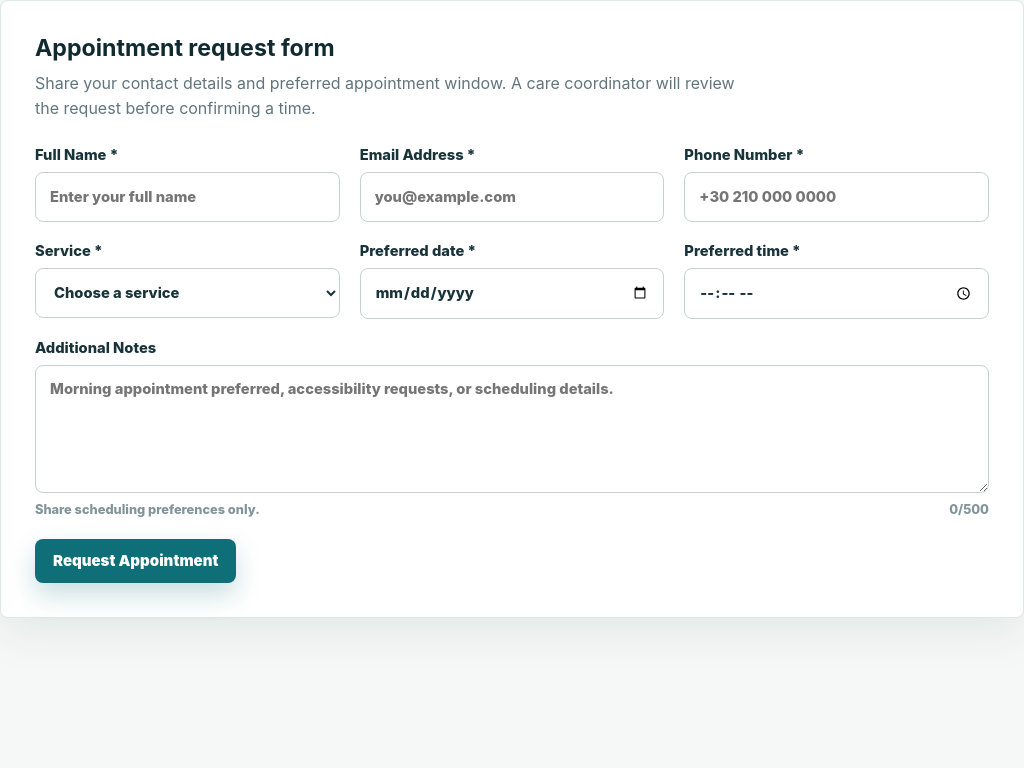
Test: BookingForm › invalid email format shows a validation message
This screenshot has width=1024, height=768.
Type "Mina Carter" into the field labelled "Full Name *" at point(187, 197), box [35, 172, 340, 222]
Type "not-an-email" into the field labelled "Email Address *" at point(512, 197), box [360, 172, 664, 222]
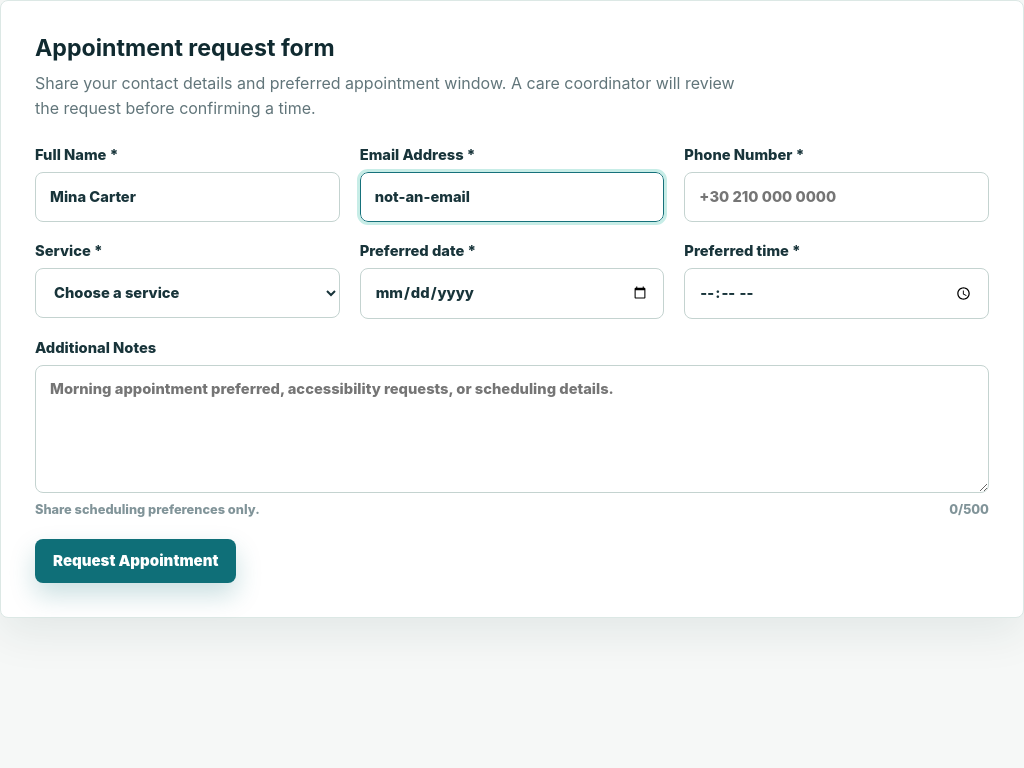
Type "555-0199" into the field labelled "Phone Number *" at point(837, 197), box [684, 172, 989, 222]
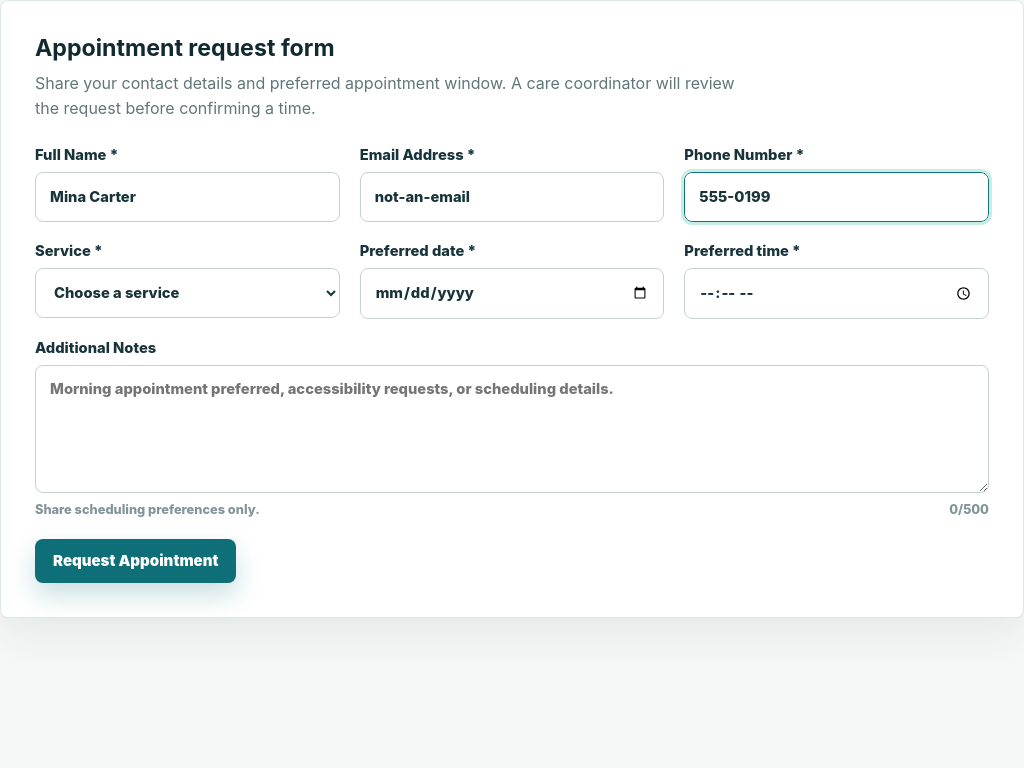
Select "Hearing test" in the dropdown labelled "Service *" at point(187, 293), box [35, 268, 340, 318]
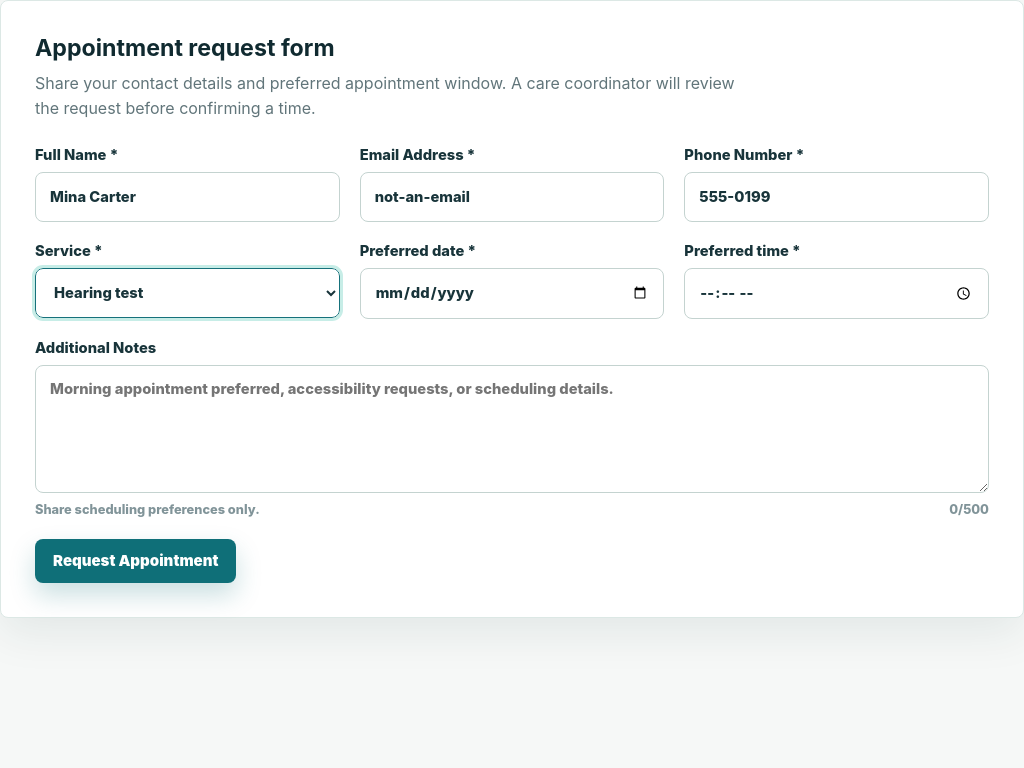
Type "2026-06-15" into the date field labelled "Preferred date *" at point(512, 293), box [360, 268, 664, 319]
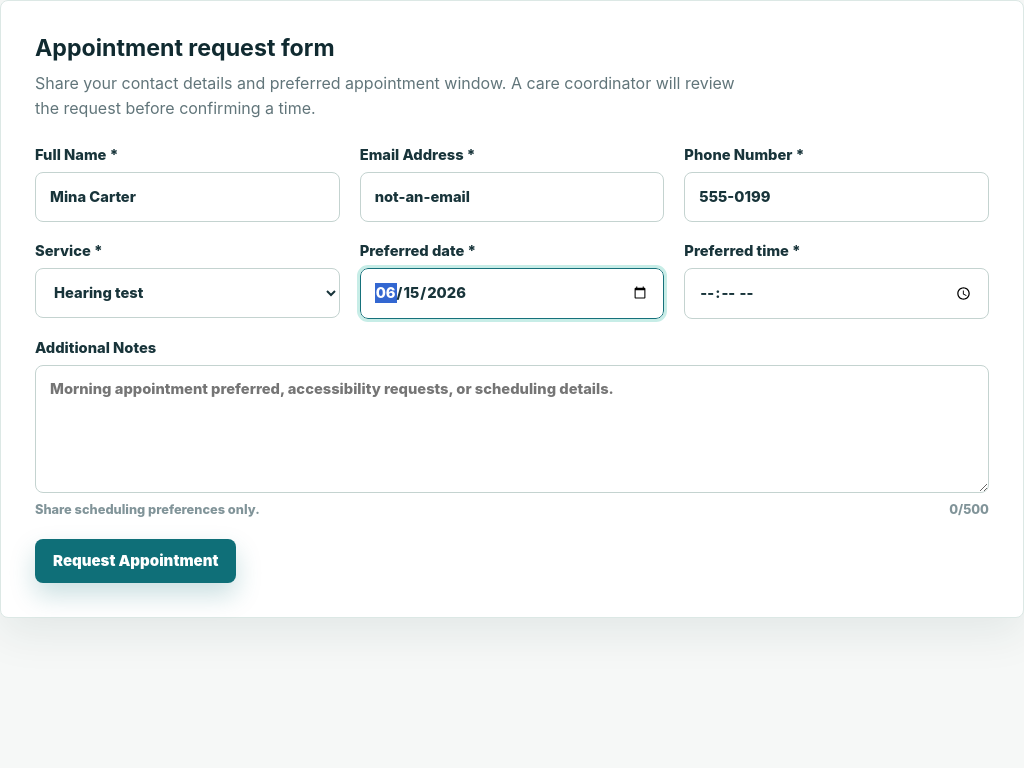
Type "10:30" into the time field labelled "Preferred time *" at point(837, 293), box [684, 268, 989, 319]
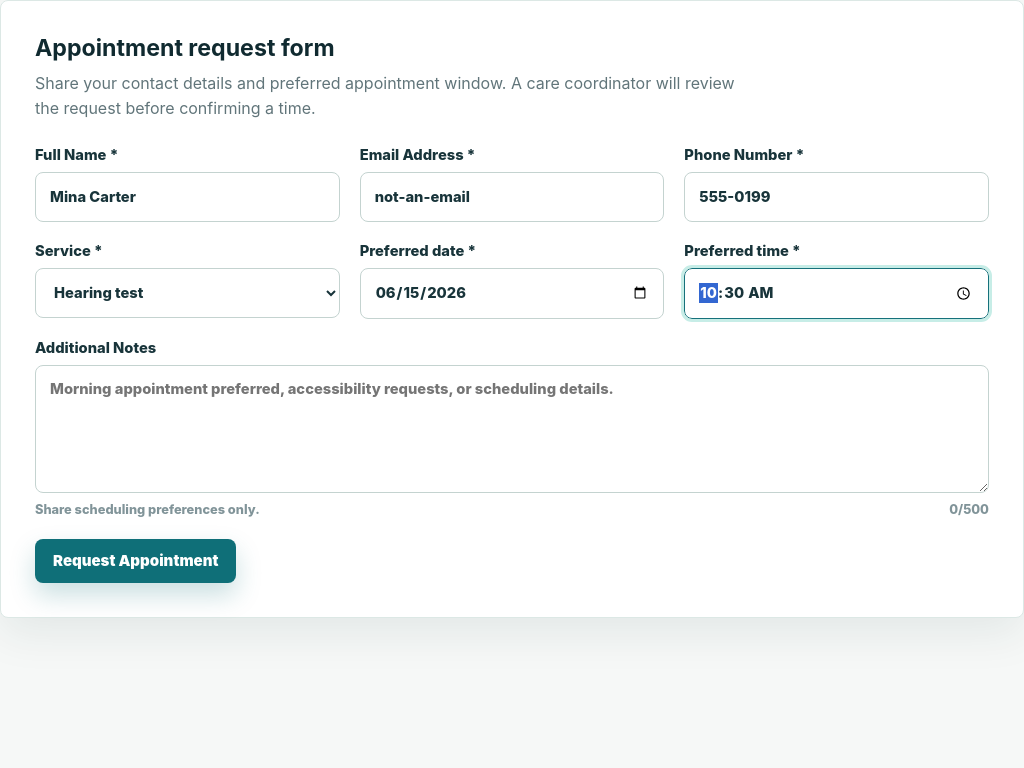
Click the button "Request Appointment" at point(136, 560), box [35, 538, 236, 582]
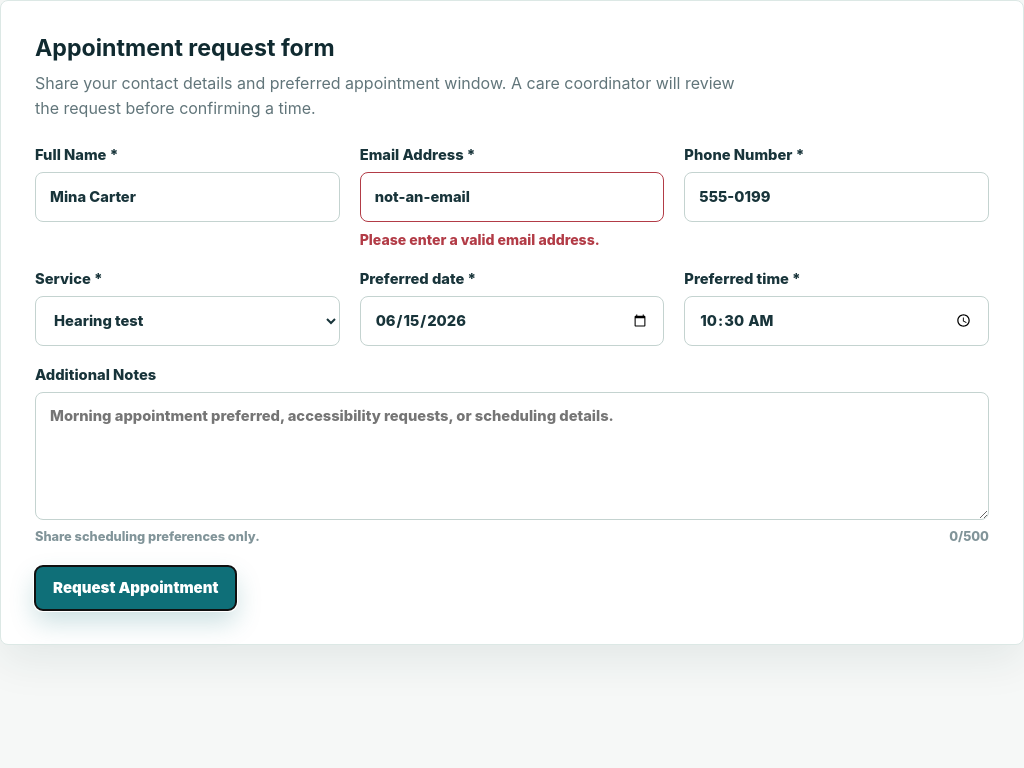
Now the text "Please enter a valid email address." is shown, box [360, 231, 600, 248]
